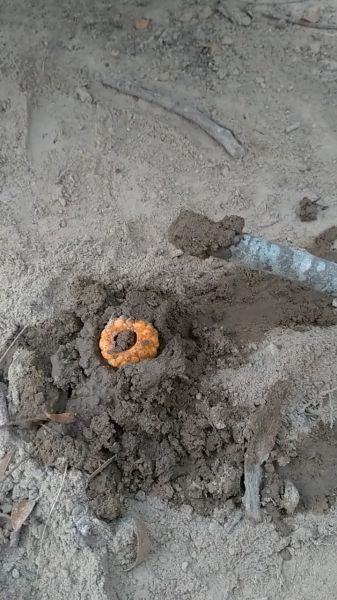eggs: (91, 315, 165, 369)
